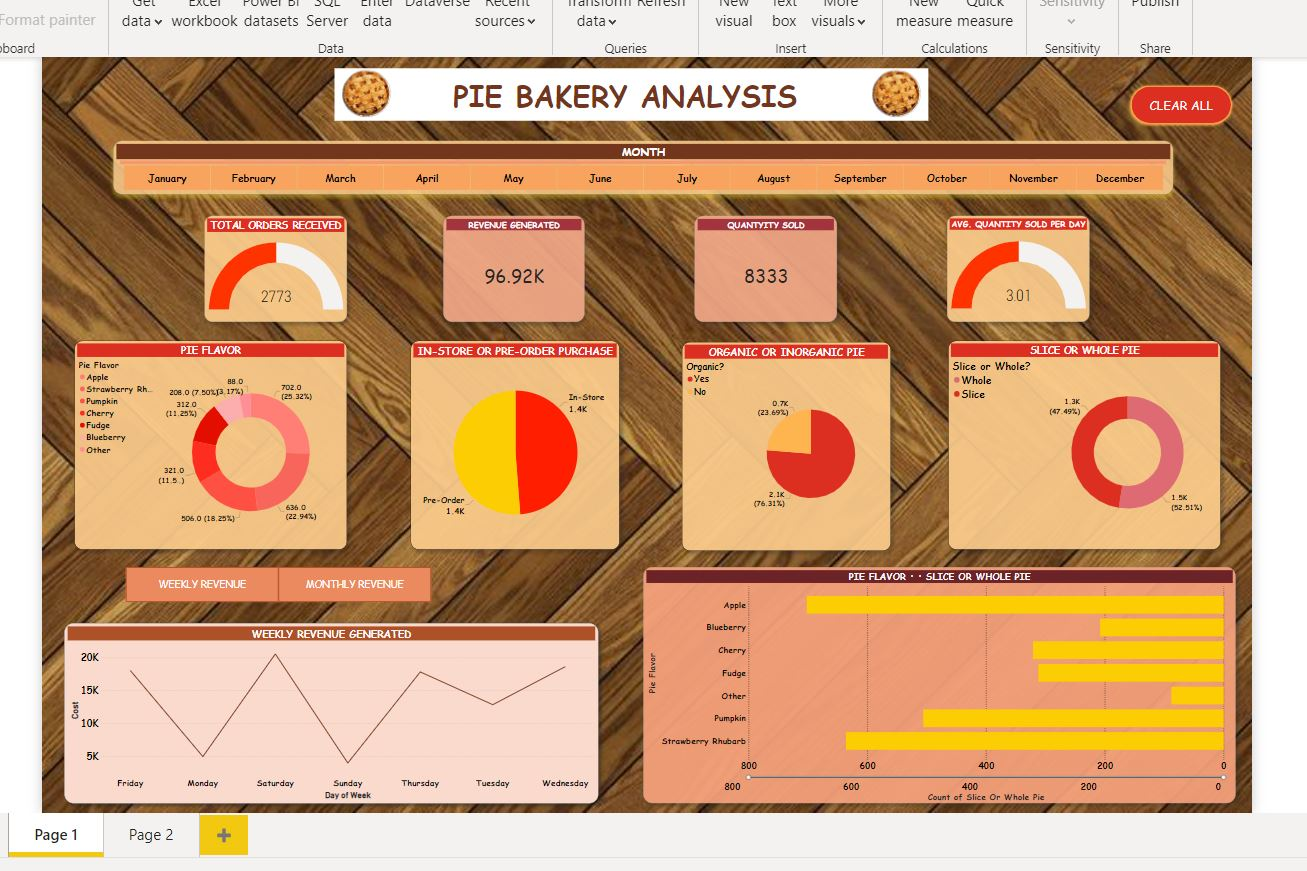

Layout of this report page (visuals, bound fields, positions):
{"tool":"powerbi","page":{"name":"Page 1","canvas":[4000,2500],"ordinal":0},"visuals":[{"type":"donutChart","title":"PIE FLAVOR","fields":{"Category":["Data.Pie Flavor"],"Y":["CountNonNull(Data.Order NO)"]},"box":[107.4,938,900.8,690.1],"z":0},{"type":"pieChart","title":"ORGANIC OR INORGANIC PIE","fields":{"Category":["Data.Organic?"],"Y":["CountNonNull(Data.Order NO)"]},"box":[2115.7,942.1,690.1,690.1],"z":1000},{"type":"donutChart","title":"SLICE OR WHOLE PIE","fields":{"Category":["Data.Slice Or Whole Pie"],"Y":["CountNonNull(Data.Order NO)"]},"box":[2995.9,938,900.8,690.1],"z":2000},{"type":"textbox","box":[966.9,37.2,1962.8,173.6],"z":3000},{"type":"gauge","title":"TOTAL ORDERS RECEIVED","fields":{"Y":["CountNonNull(Data.Order NO)"]},"box":[537.2,524.8,471.1,351.2],"z":4000},{"type":"card","title":"QUANTYITY SOLD","fields":{"Values":["Sum(Data.Quantity)"]},"box":[2157,524.8,471.1,351.2],"z":5000},{"type":"actionButton","box":[3586.8,82.6,359.5,151],"z":6000},{"type":"card","title":"REVENUE GENERATED","fields":{"Values":["Sum(Data.Cost)"]},"box":[1326.4,524.8,466.9,351.2],"z":7000},{"type":"lineChart","title":"MONTHLY REVENUE GENERATED","fields":{"Category":["Data.Order Date.Variation.Date Hierarchy.Month"],"Y":["Sum(Data.Cost)"]},"box":[74.4,1871.9,1764,595],"z":8000},{"type":"lineChart","title":"WEEKLY REVENUE GENERATED","fields":{"Y":["Sum(Data.Cost)"],"Category":["Data.Day of Week"]},"box":[74.4,1871.9,1764.5,595],"z":9000},{"type":"gauge","title":"AVG. QUANTITY SOLD PER DAY","fields":{"Y":["Avg(Data.Quantity)"]},"box":[2991.7,524.8,471.1,351.2],"z":10000},{"type":"pieChart","title":"IN-STORE OR PRE-ORDER PURCHASE","fields":{"Category":["Data.Pre-Order/In-Store Purchase"],"Y":["CountNonNull(Data.Order NO)"]},"box":[1219,938,690.1,690.1],"z":11000},{"type":"barChart","title":"PIE FLAVOR : : SLICE OR WHOLE PIE","fields":{"Y":["CountNonNull(Data.Slice Or Whole Pie)"],"Category":["Data.Pie Flavor"]},"box":[1987.6,1686,1958.7,781],"z":12000},{"type":"slicer","title":"MONTH","fields":{"Values":["Data.Order Date.Variation.Date Hierarchy.Month"]},"box":[235.5,276.9,3504.1,177.7],"z":13000},{"type":"image","box":[966.9,16.5,223.1,210.7],"z":14000},{"type":"actionButton","box":[277.1,1687,505.5,115.7],"z":15000},{"type":"actionButton","box":[779.5,1687,505.5,115.7],"z":16000},{"type":"image","box":[2719,16.5,223.1,210.7],"z":17000}]}

Visuals, with their boxes on the page's 4000x2500 design canvas (x1, y1, x2, y2). These are canvas units, not pixel positions in the 1307x871 screenshot, which may show the page scaled, cropped or inside an application window:
"PIE FLAVOR" donutChart: (x1=107, y1=938, x2=1008, y2=1628)
"ORGANIC OR INORGANIC PIE" pieChart: (x1=2116, y1=942, x2=2806, y2=1632)
"SLICE OR WHOLE PIE" donutChart: (x1=2996, y1=938, x2=3897, y2=1628)
textbox: (x1=967, y1=37, x2=2930, y2=211)
"TOTAL ORDERS RECEIVED" gauge: (x1=537, y1=525, x2=1008, y2=876)
"QUANTYITY SOLD" card: (x1=2157, y1=525, x2=2628, y2=876)
actionButton: (x1=3587, y1=83, x2=3946, y2=234)
"REVENUE GENERATED" card: (x1=1326, y1=525, x2=1793, y2=876)
"MONTHLY REVENUE GENERATED" lineChart: (x1=74, y1=1872, x2=1838, y2=2467)
"WEEKLY REVENUE GENERATED" lineChart: (x1=74, y1=1872, x2=1839, y2=2467)
"AVG. QUANTITY SOLD PER DAY" gauge: (x1=2992, y1=525, x2=3463, y2=876)
"IN-STORE OR PRE-ORDER PURCHASE" pieChart: (x1=1219, y1=938, x2=1909, y2=1628)
"PIE FLAVOR : : SLICE OR WHOLE PIE" barChart: (x1=1988, y1=1686, x2=3946, y2=2467)
"MONTH" slicer: (x1=236, y1=277, x2=3740, y2=455)
image: (x1=967, y1=16, x2=1190, y2=227)
actionButton: (x1=277, y1=1687, x2=783, y2=1803)
actionButton: (x1=780, y1=1687, x2=1285, y2=1803)
image: (x1=2719, y1=16, x2=2942, y2=227)
